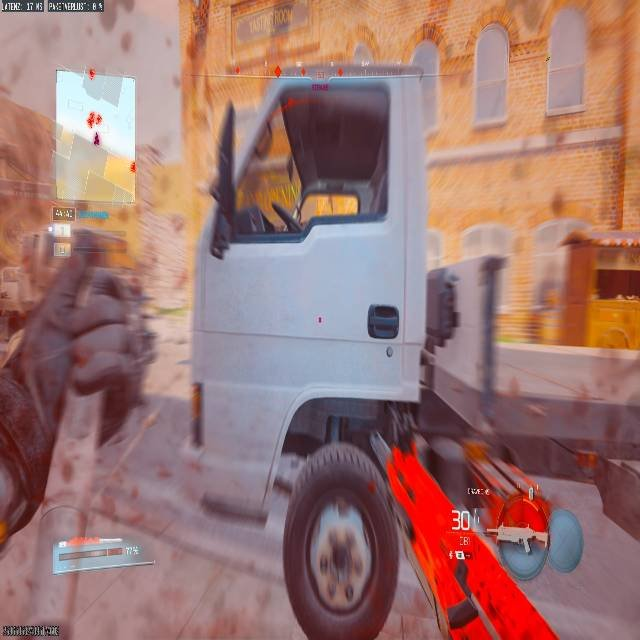head: (130, 8, 640, 640)
